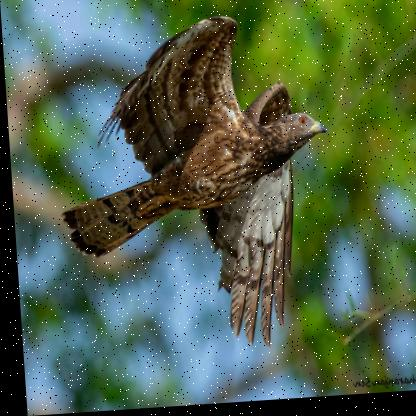Burung: (52, 11, 337, 347)
